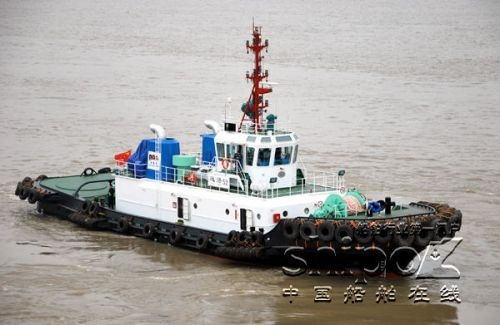otherboat: (13, 21, 466, 279)
